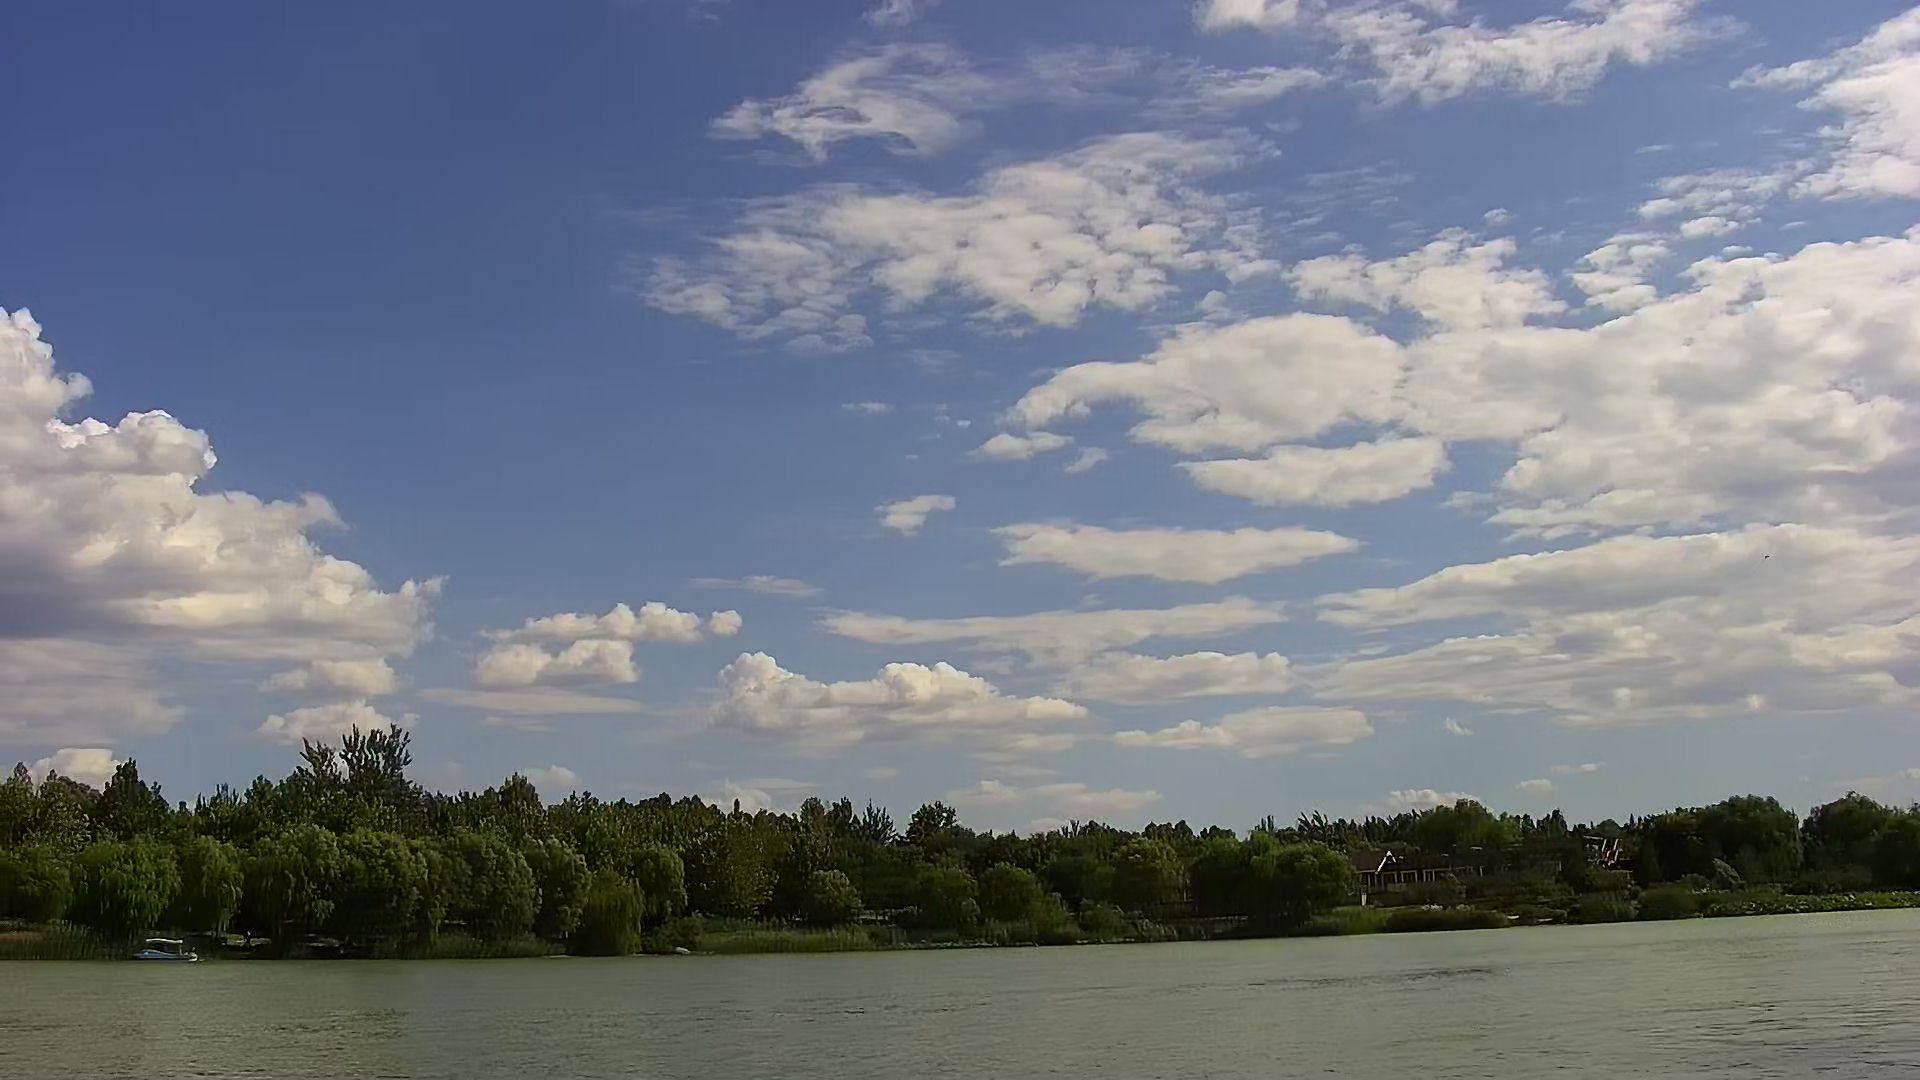boat: (129, 931, 202, 969)
